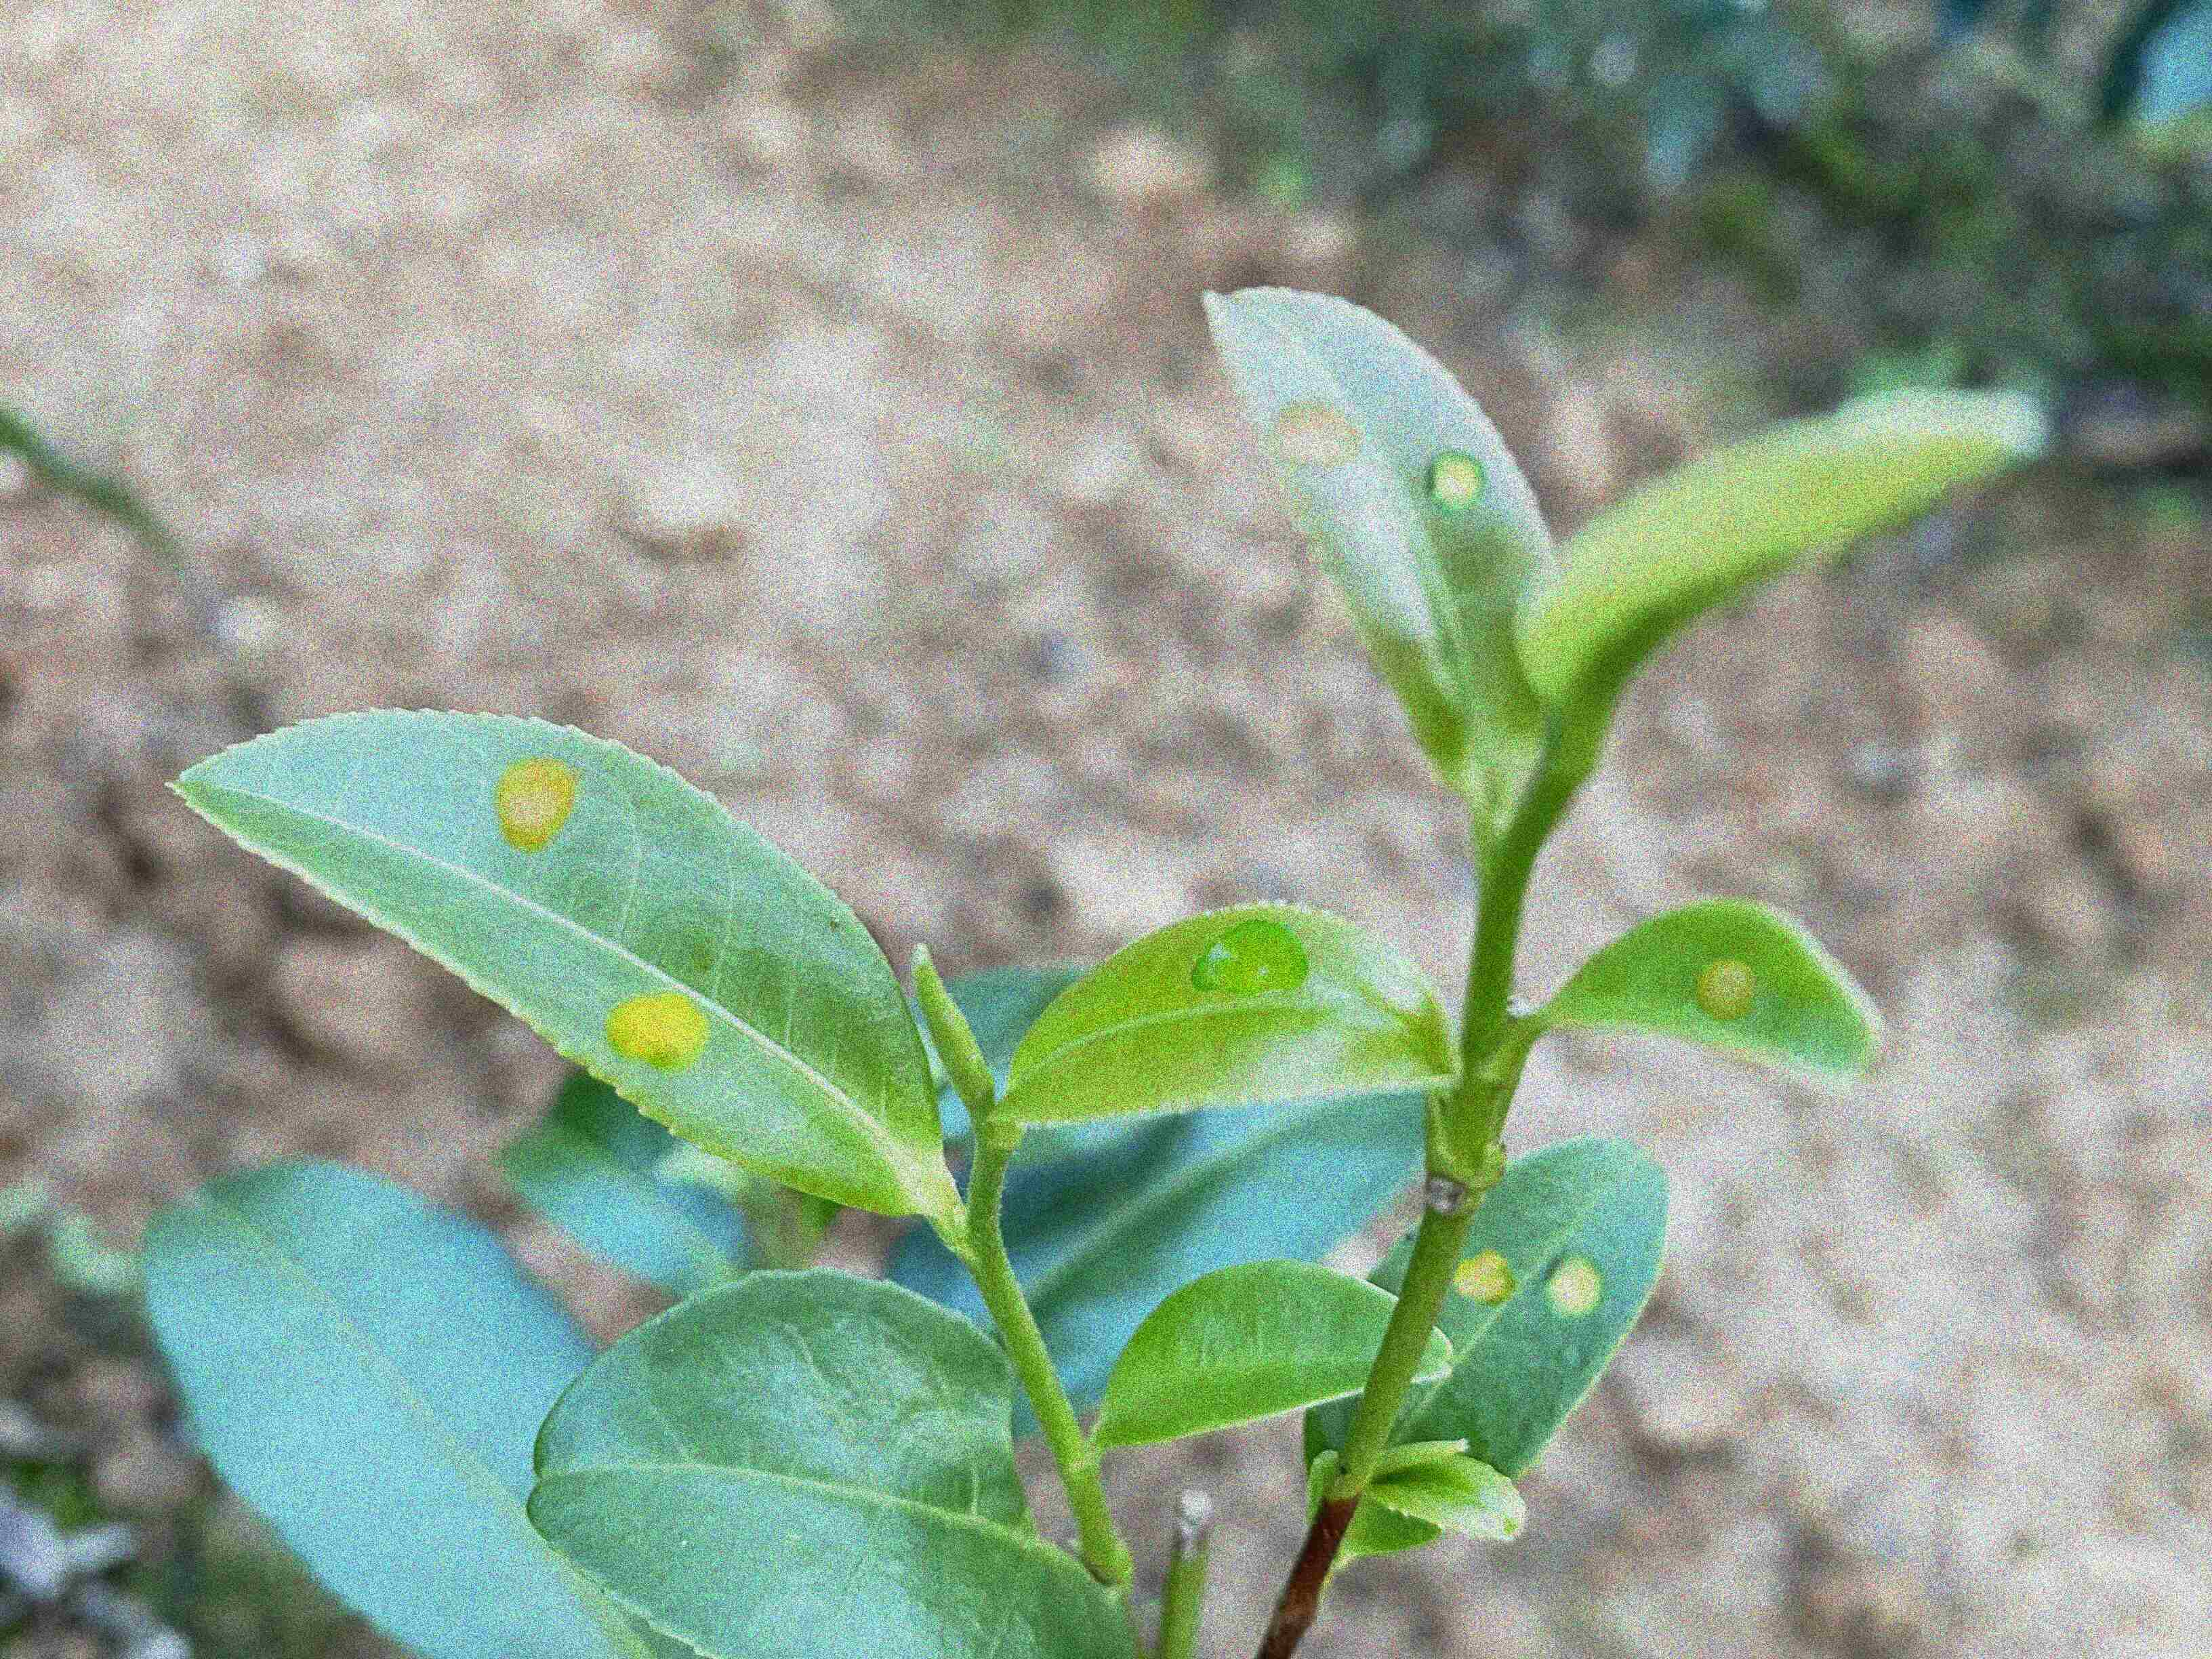chabing_high: (164, 708, 946, 1216), (1200, 284, 1555, 810)
chabing_low: (986, 899, 1463, 1129), (1543, 896, 1890, 1098)
healthy: (1092, 1256, 1458, 1446)
